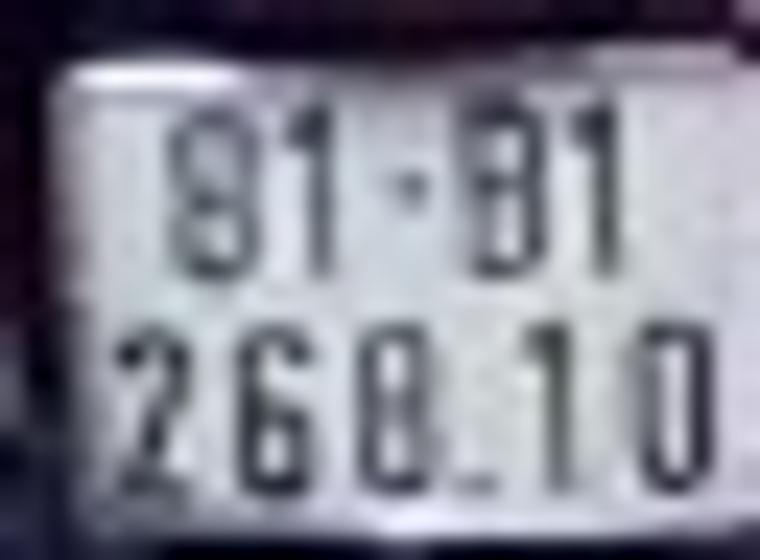-: (383, 157, 437, 209)
.: (460, 460, 505, 508)
0: (628, 314, 721, 501)
1: (286, 89, 356, 287), (570, 96, 637, 287), (530, 309, 581, 495)
2: (107, 320, 194, 506)
6: (232, 312, 318, 506)
8: (157, 105, 270, 285), (354, 318, 448, 499)
B: (458, 94, 552, 276)
